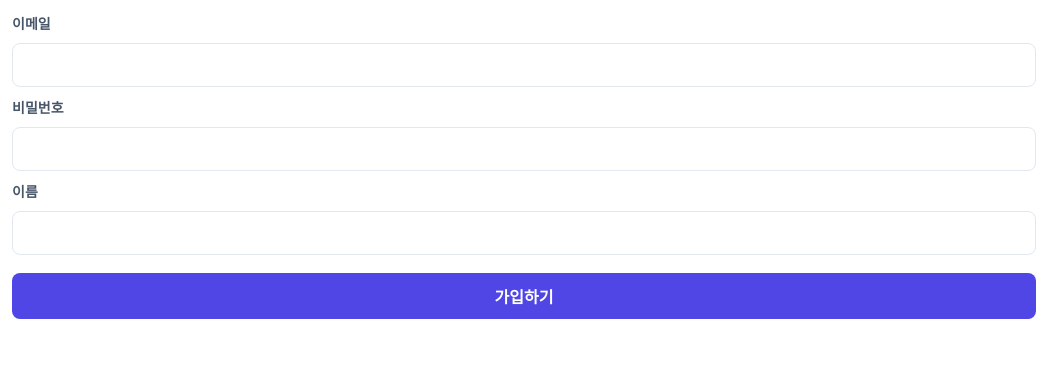
Test: SignupForm › submits signup data to the API and shows the verification notice
In the field labelled "이메일": [524, 65] box [12,43,1036,87], type "user@example.com"
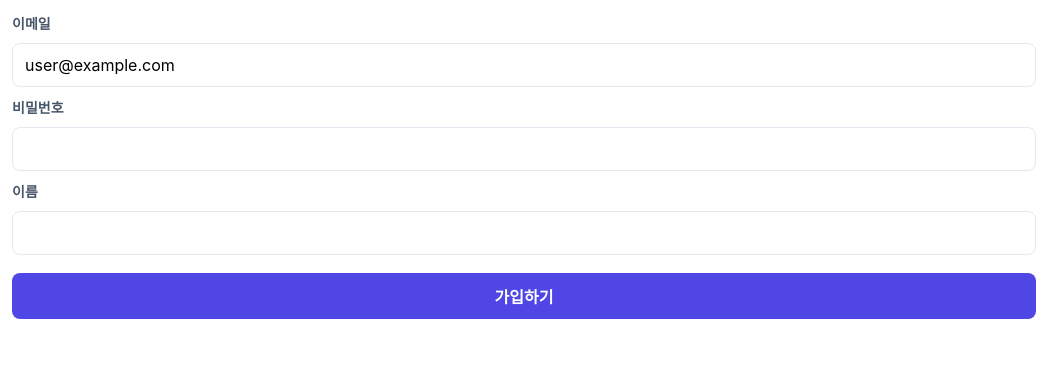
In the password field labelled "비밀번호": [524, 149] box [12,127,1036,171], type "password1"
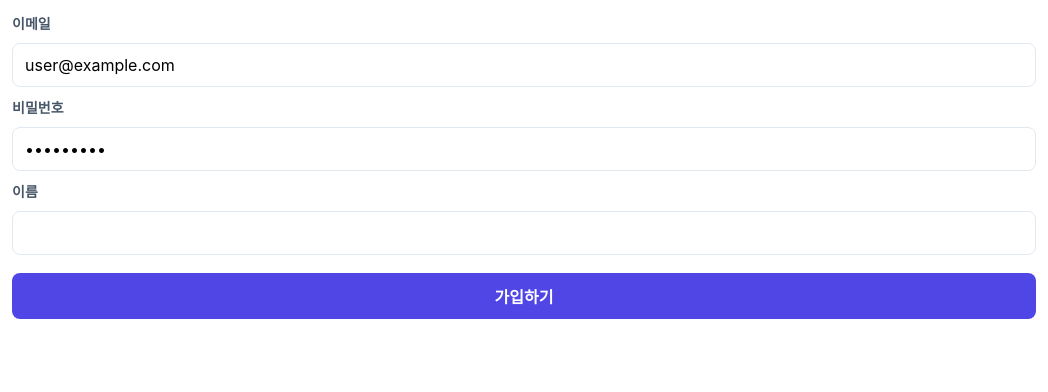
In the field labelled "이름": [524, 233] box [12,211,1036,255], type "박지원"
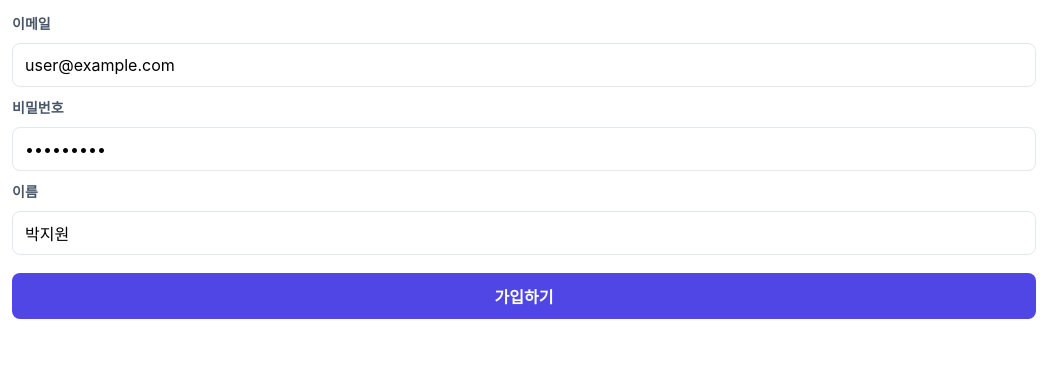
Click the button "가입하기": [524, 296] box [12,273,1036,319]
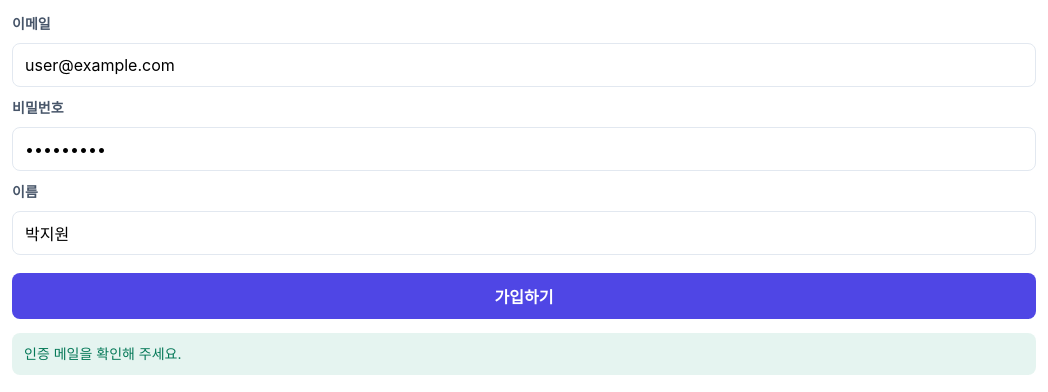
Result: the text "인증 메일을 확인해 주세요." is shown at [12,333,1036,375]
